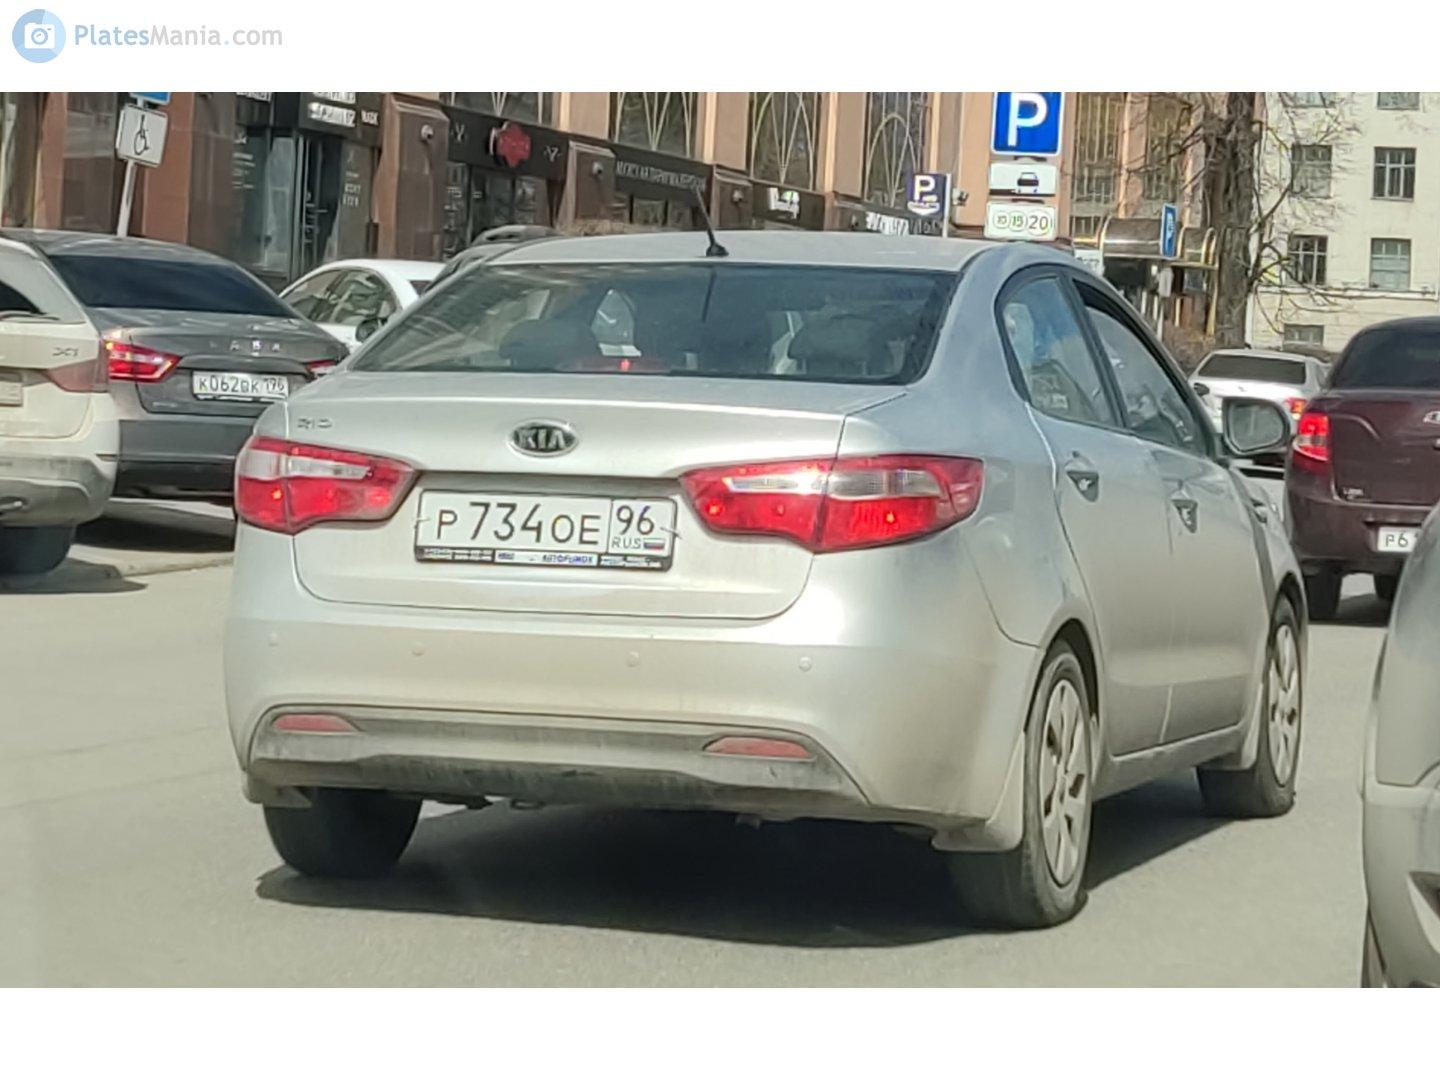license-plateSW: (412, 492, 669, 554), (193, 372, 290, 395)
